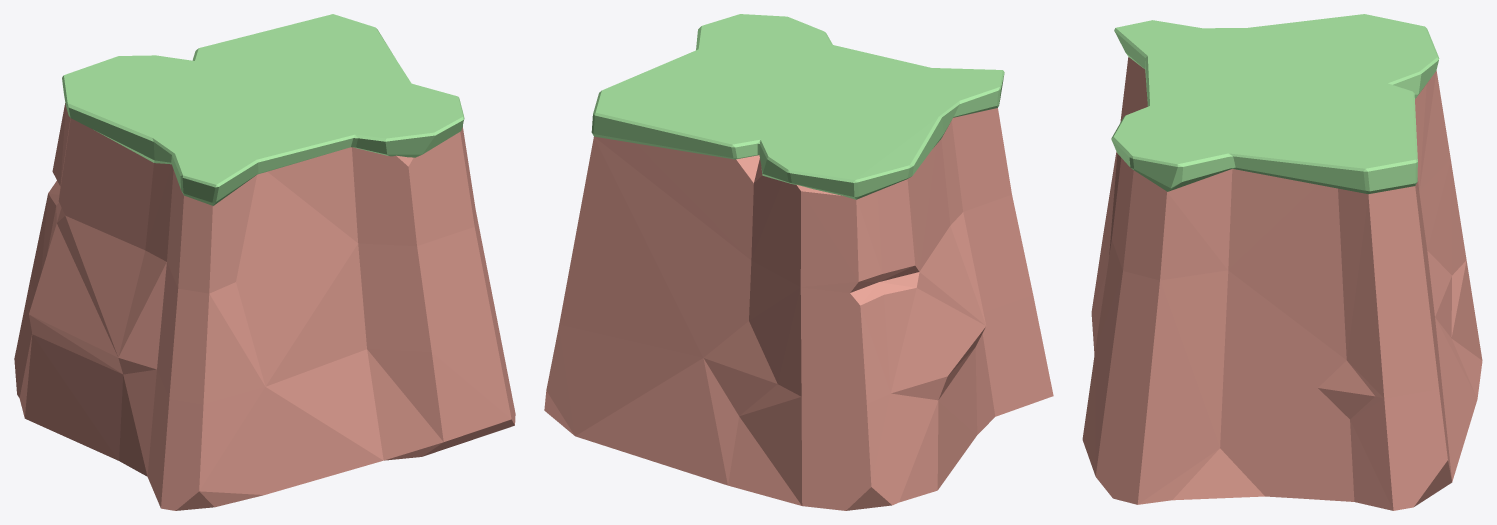
The model's file is Plane_012_Vlad.fbx.
3 views of the same model, side by side, from view 1: azimuth 30°, elevation 25°; view 2: azimuth 150°, elevation 25°; view 3: azimuth 270°, elevation 25° (orthographic). The views are drawn at different scales.
Visible parts, largest first — view 1: Plane.012; view 2: Plane.012; view 3: Plane.012.
Boxes of the visible parts, x1=… form: Plane.012: x1=14, y1=14, x2=515, y2=510; Plane.012: x1=544, y1=14, x2=1053, y2=510; Plane.012: x1=1082, y1=14, x2=1482, y2=510.
Size of the model in its own units: 995 by 766 by 863.
